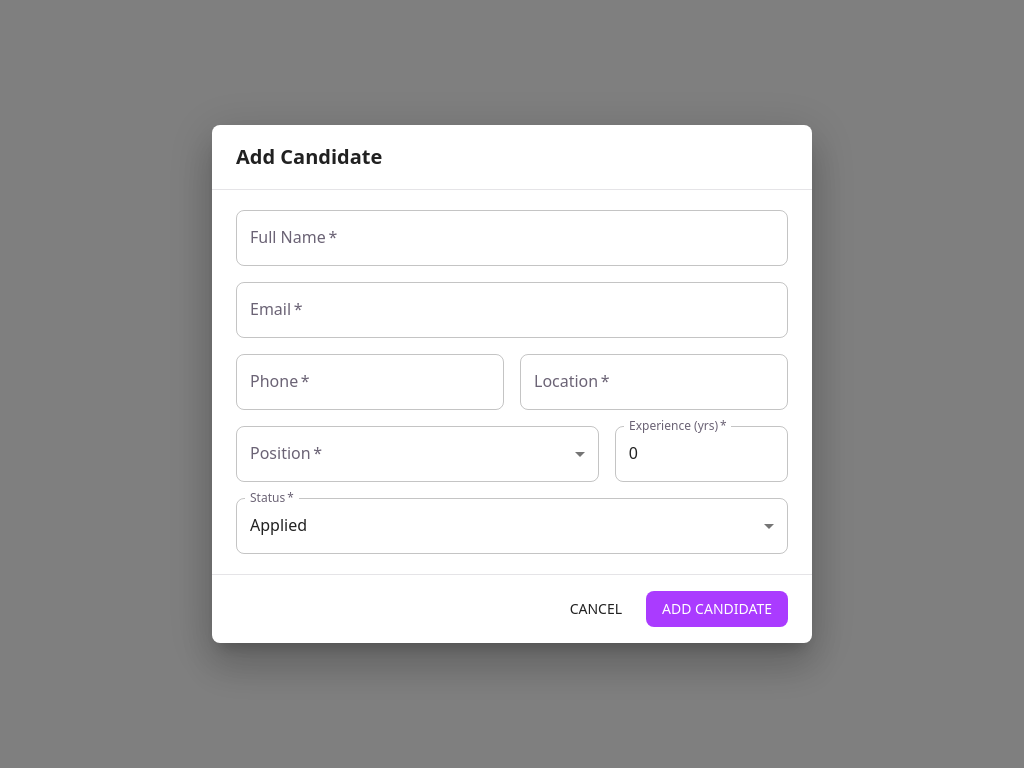
Test: AddCandidateDialog › when open › form validation › blocks submit and shows name error when name is empty
Click the button "Add Candidate" at {"x": 717, "y": 609}, box [646,591,788,627]
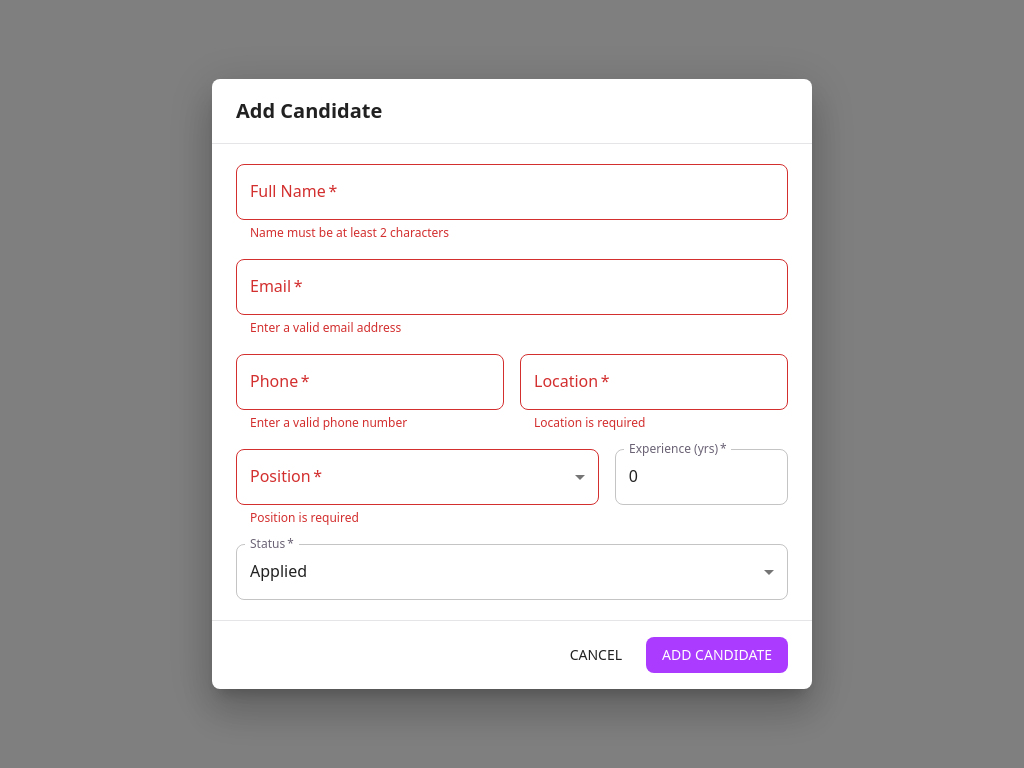
Now the text "Name must be at least 2 characters" is shown, box [250,224,449,241]
